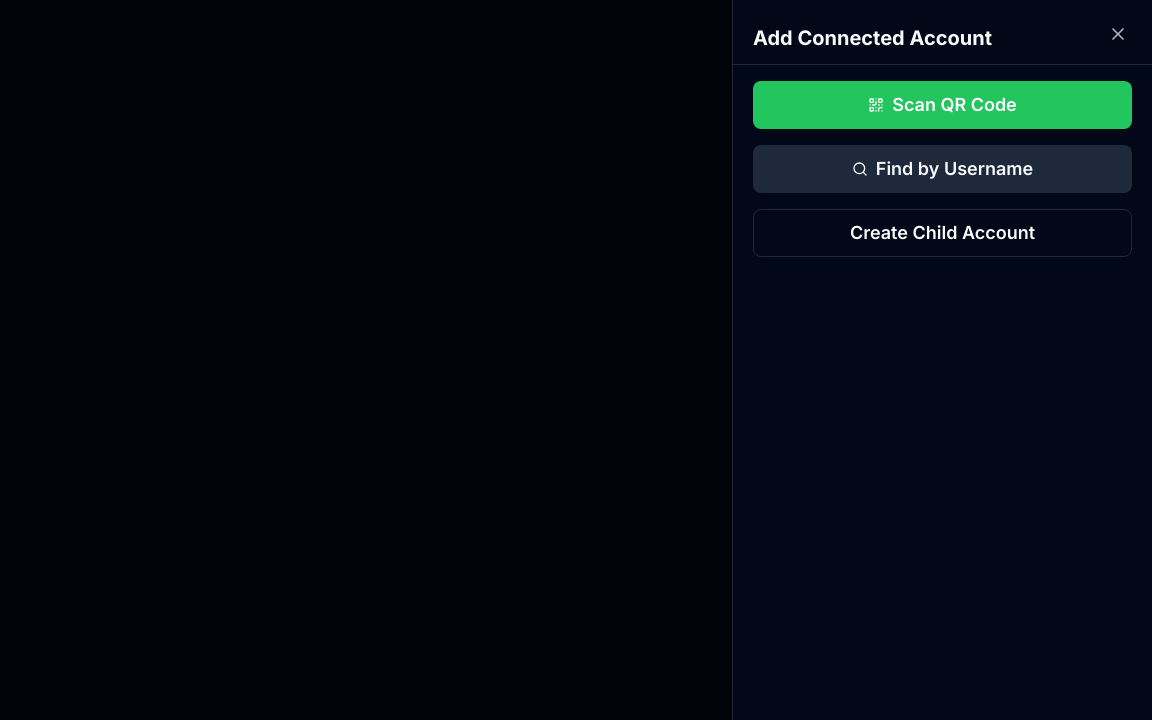
Test: AddConnectedAccountDialog (sheet) › title follows the view
Click the button "Create Child Account" at (942, 233), box [753,209,1132,257]
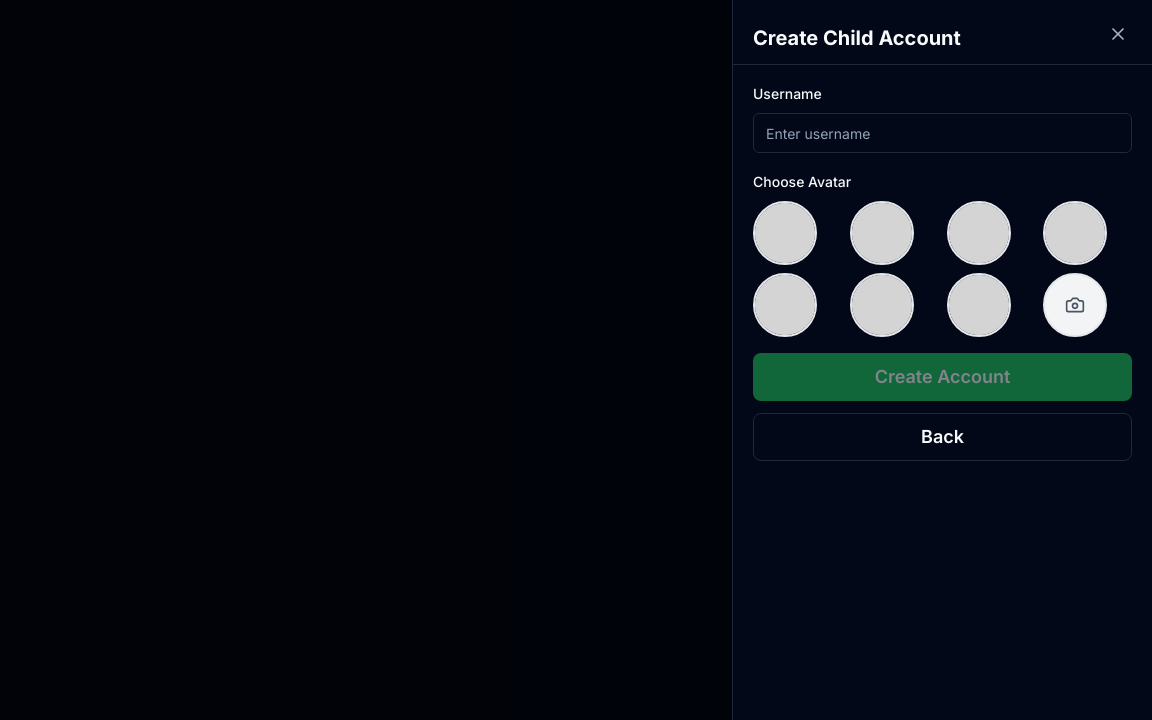
Expected: the heading "Create Child Account" is shown, [753,26,961,50]
Click the button "Back" at (942, 437), box [753,413,1132,461]
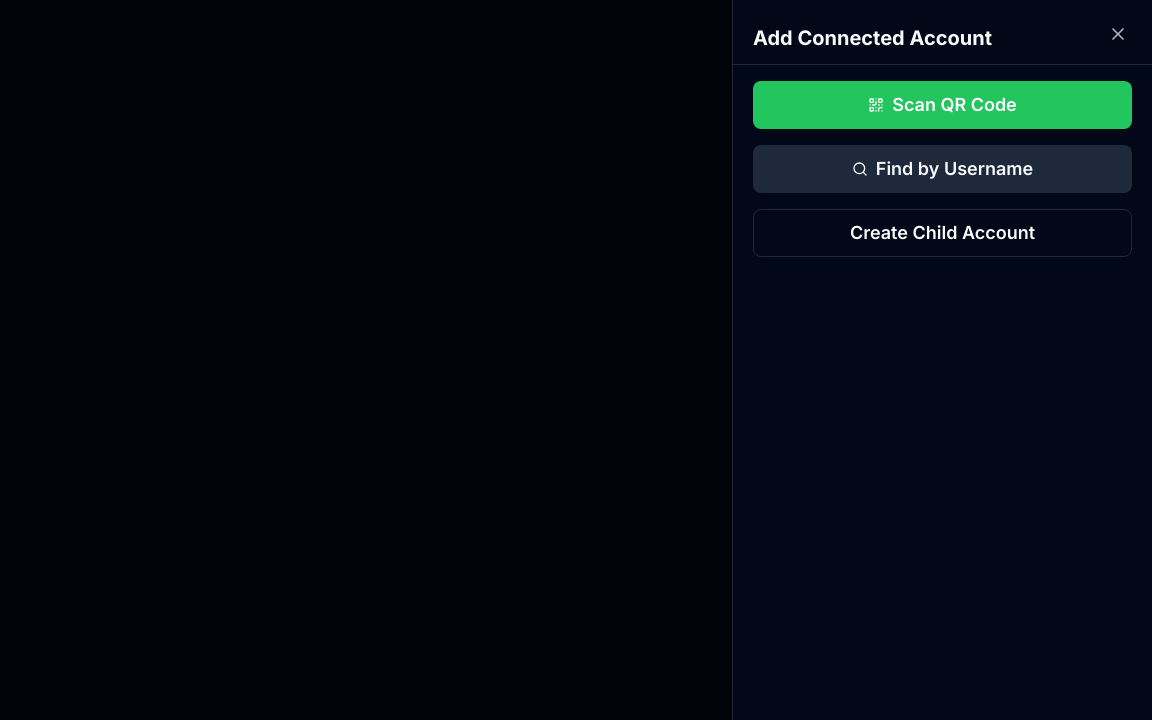
Click the button "Find by Username" at (942, 169), box [753,145,1132,193]
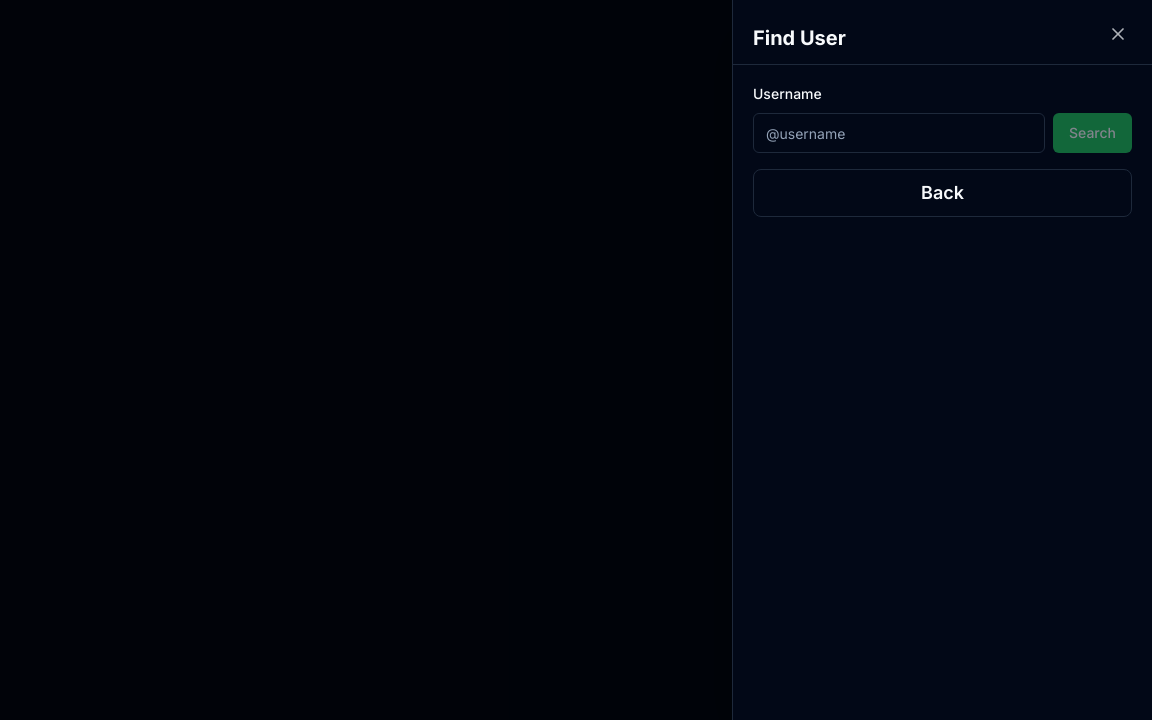
Expected: the heading "Find User" is shown, [753,26,846,50]
